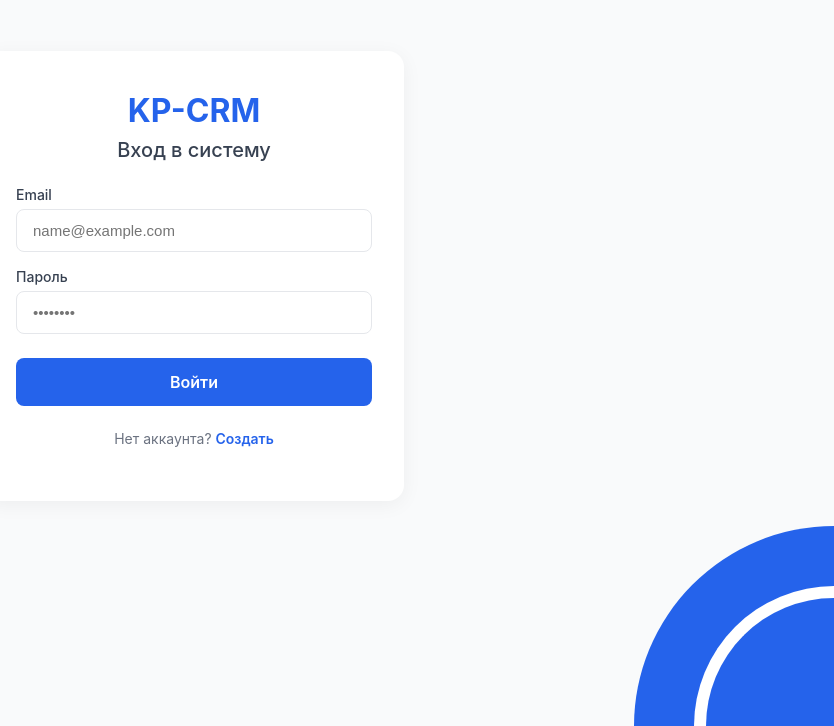
LoginPage Component › switches to registration form when clicking create account
Click the button "Создать": x=245, y=438 [216, 430, 274, 447]
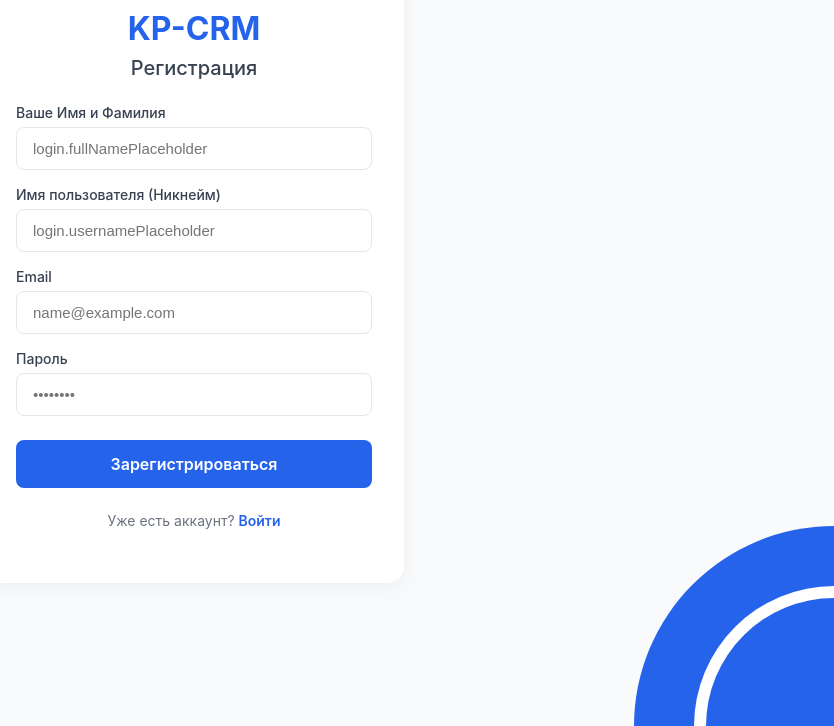
Result: the heading "Регистрация" is shown at [131, 56, 257, 80]
Result: the field labelled "Ваше Имя и Фамилия" is shown at [16, 127, 372, 170]
Result: the field labelled "Имя пользователя (Никнейм)" is shown at [16, 209, 372, 252]
